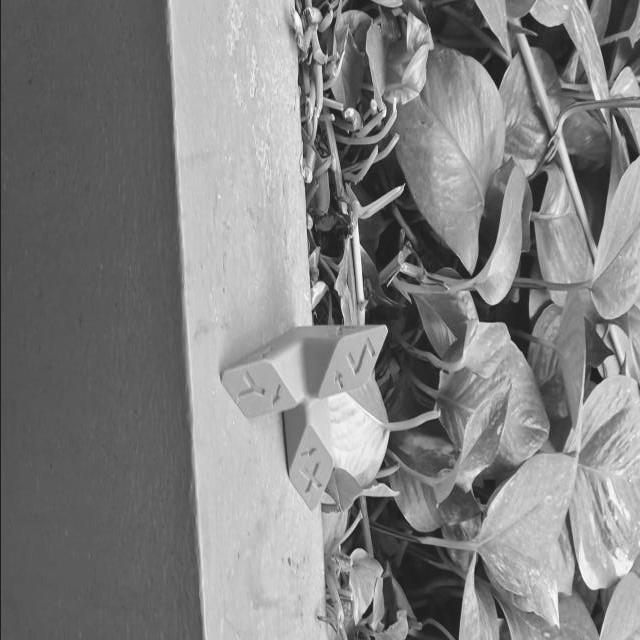eje: (218, 322, 388, 514)
